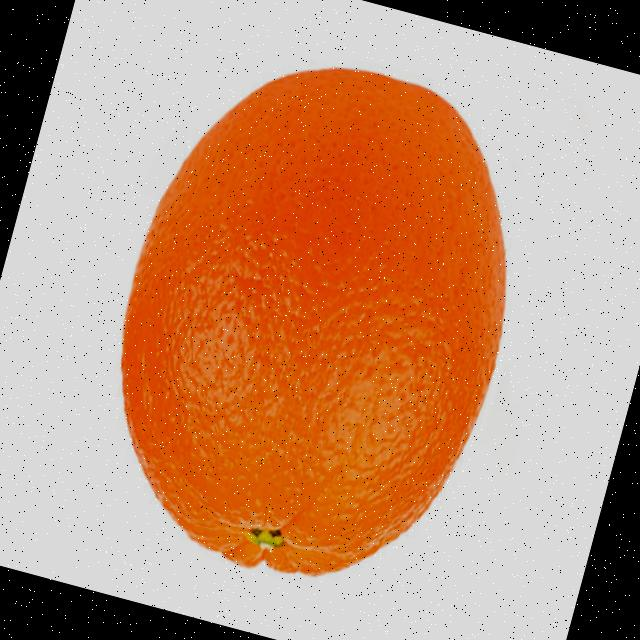Ripe: (58, 20, 565, 622)
